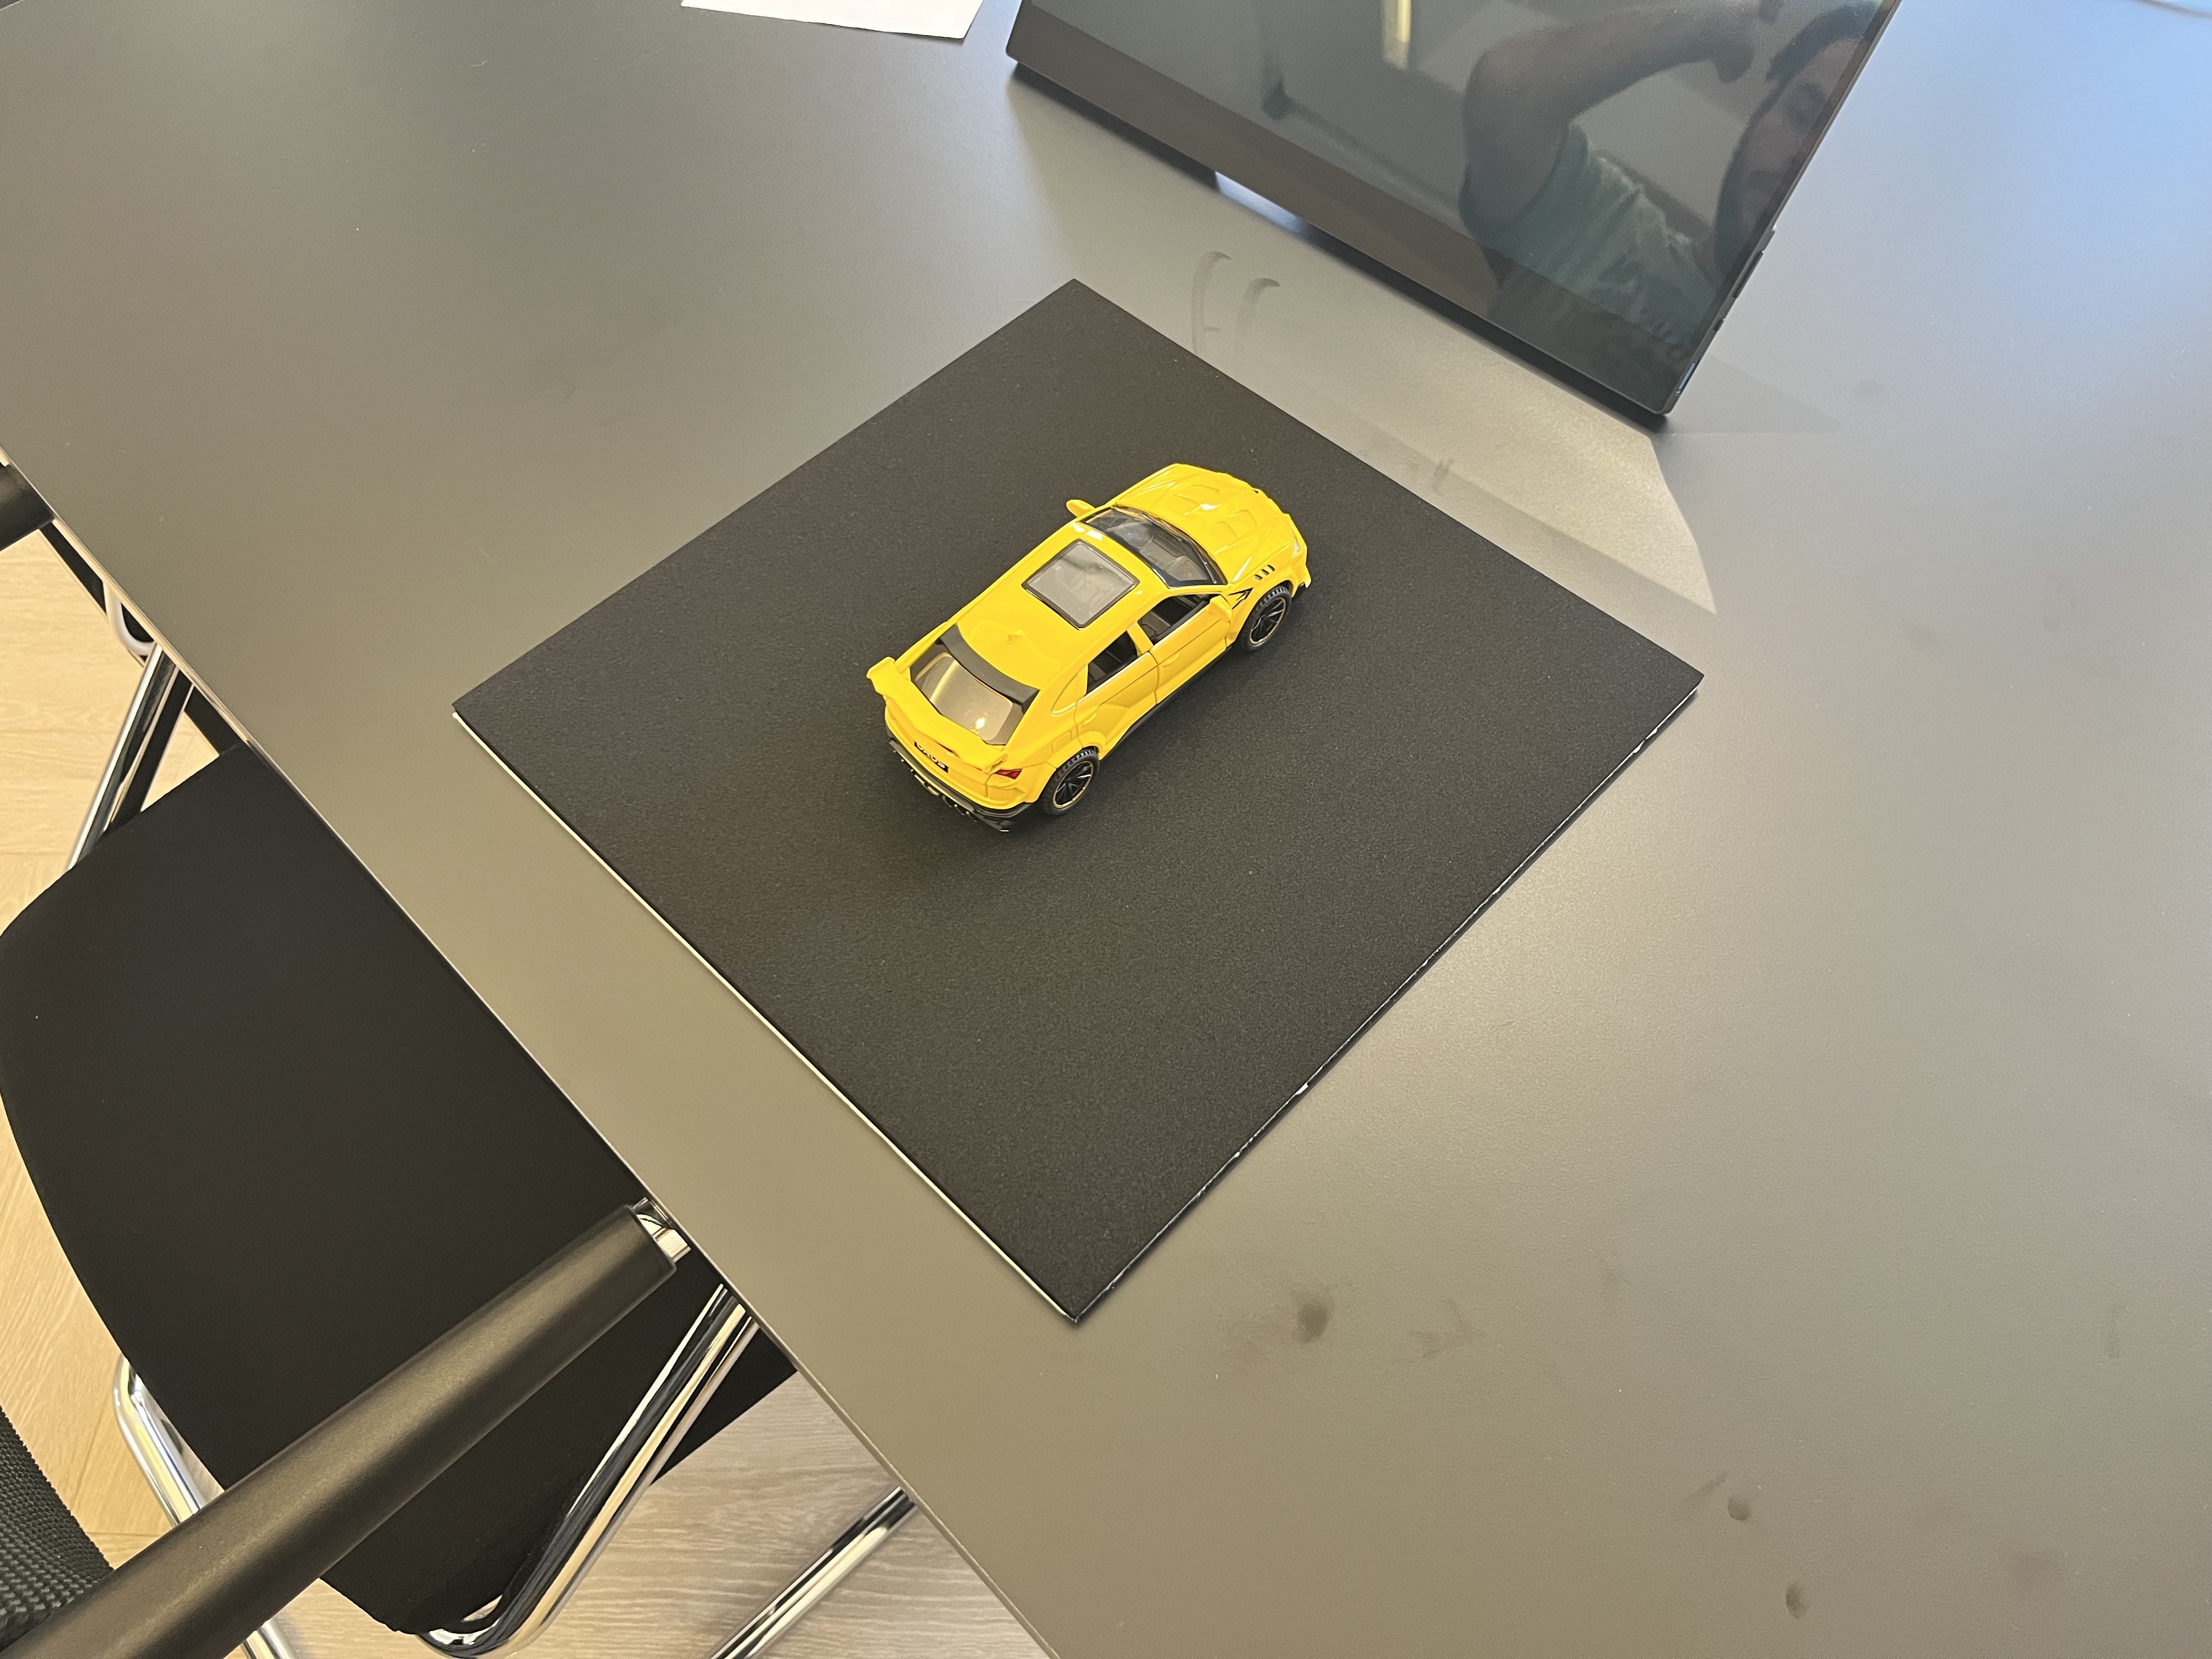lambo: (867, 458, 1313, 830)
